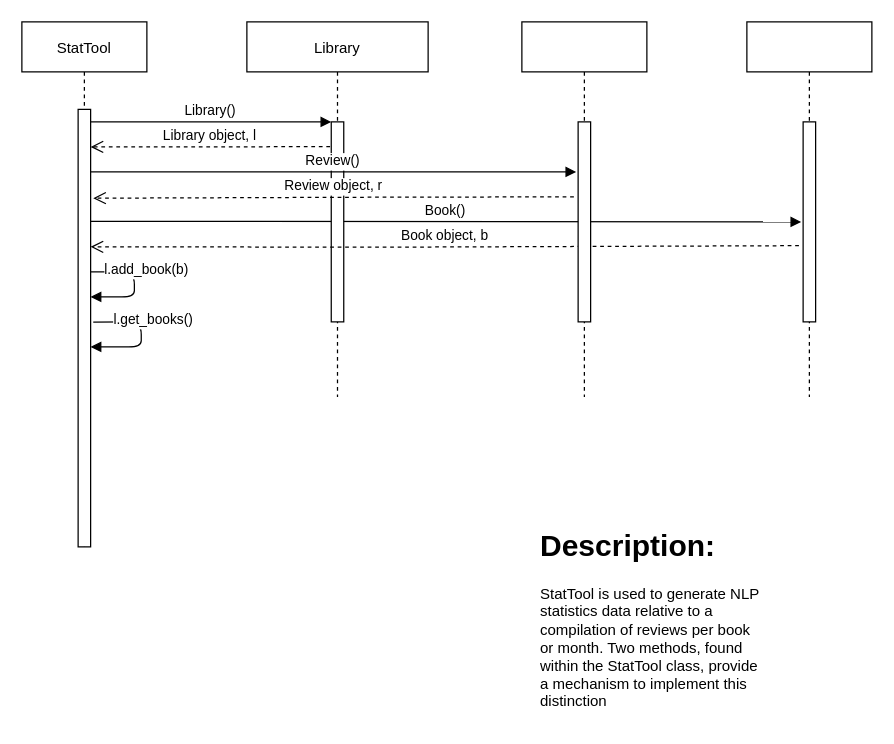
Image size: 894x744. Some labels were removed from this diagram. The box of each missing label's shape, as (x1, y1, x2, y2) in pixels:
Book: (746, 21, 872, 397)
Review: (521, 21, 647, 397)
